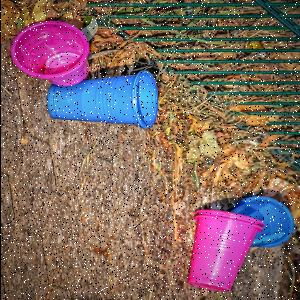Cup: (45, 70, 163, 130), (187, 209, 267, 294), (10, 21, 92, 89), (230, 196, 294, 250)
